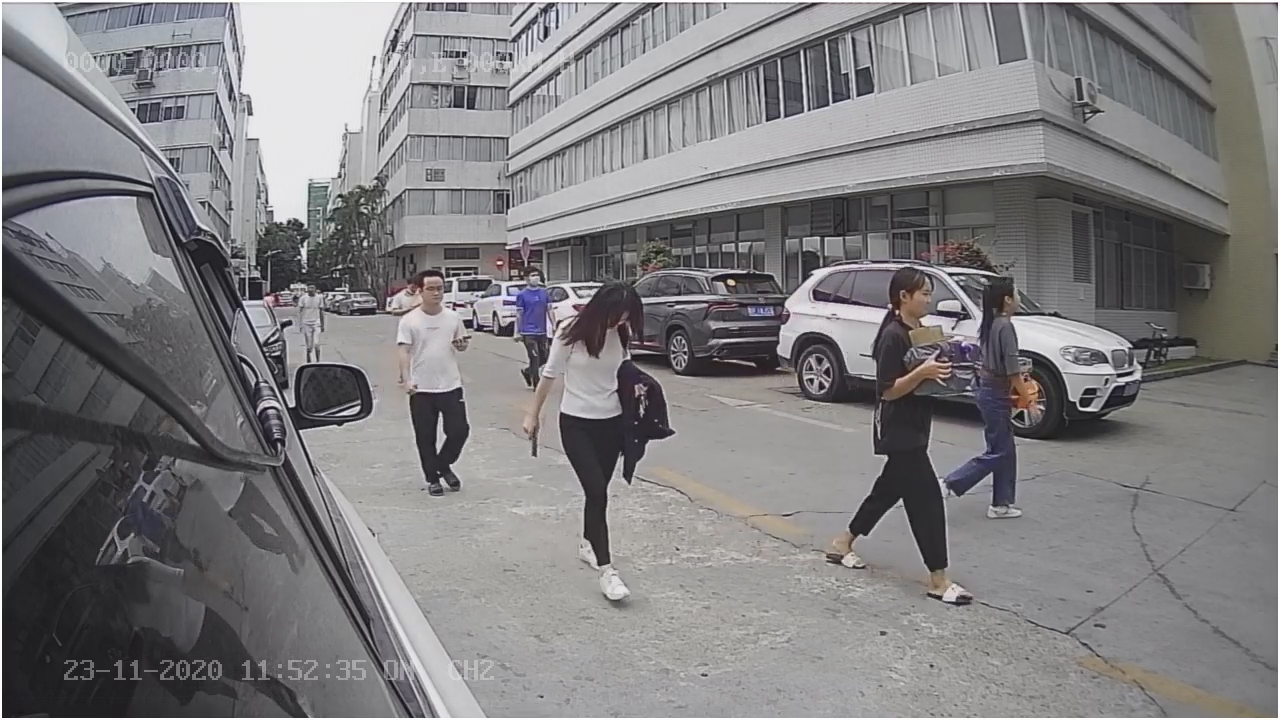person: (531, 280, 648, 594), (399, 269, 470, 502)
